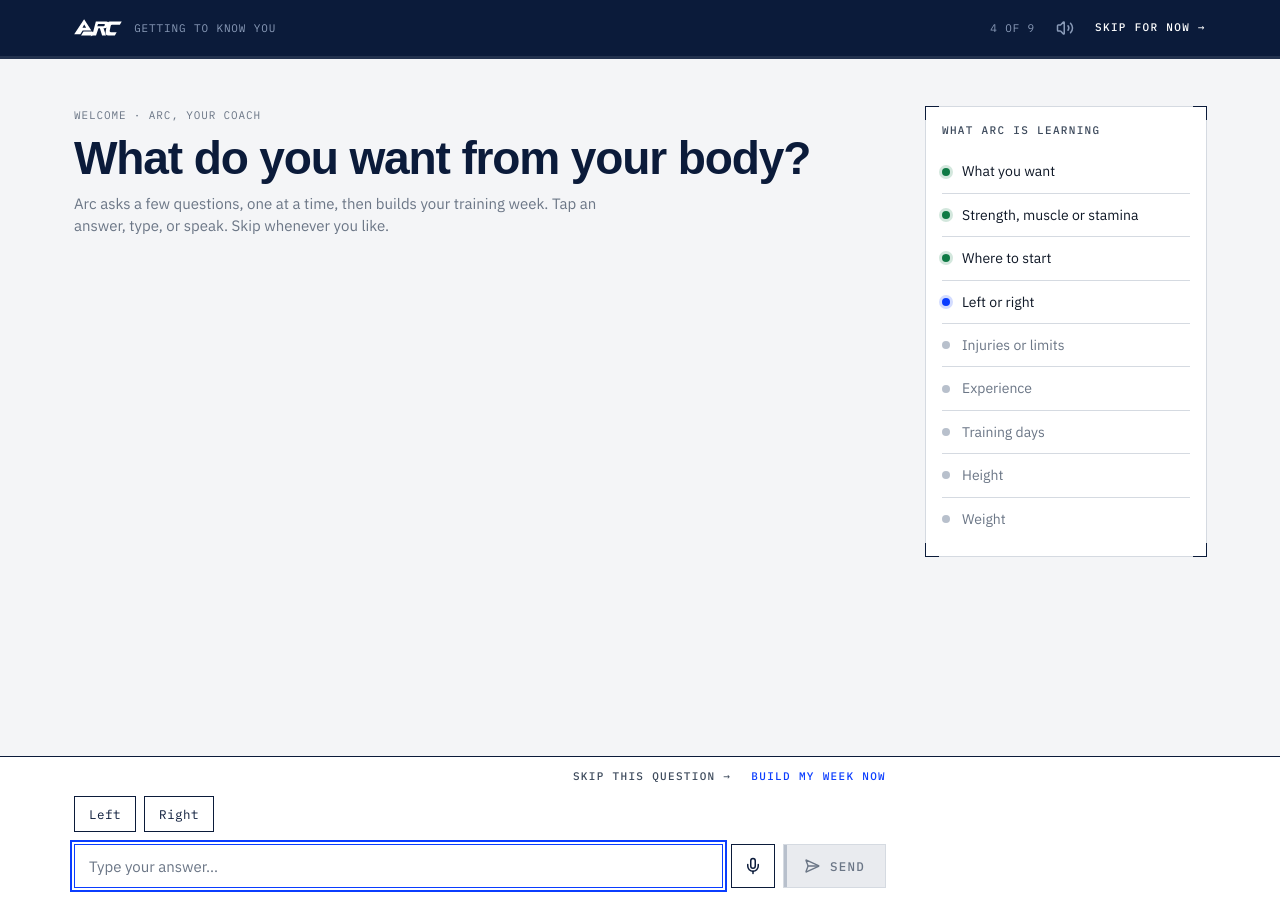
Scenario: WelcomePage › offers quick answers for the question Arc is asking, and a tap sends one
Expected: the text "4 of 9" is shown, [990, 20, 1035, 36]
Click the button "Left": (105, 814) [74, 796, 136, 832]
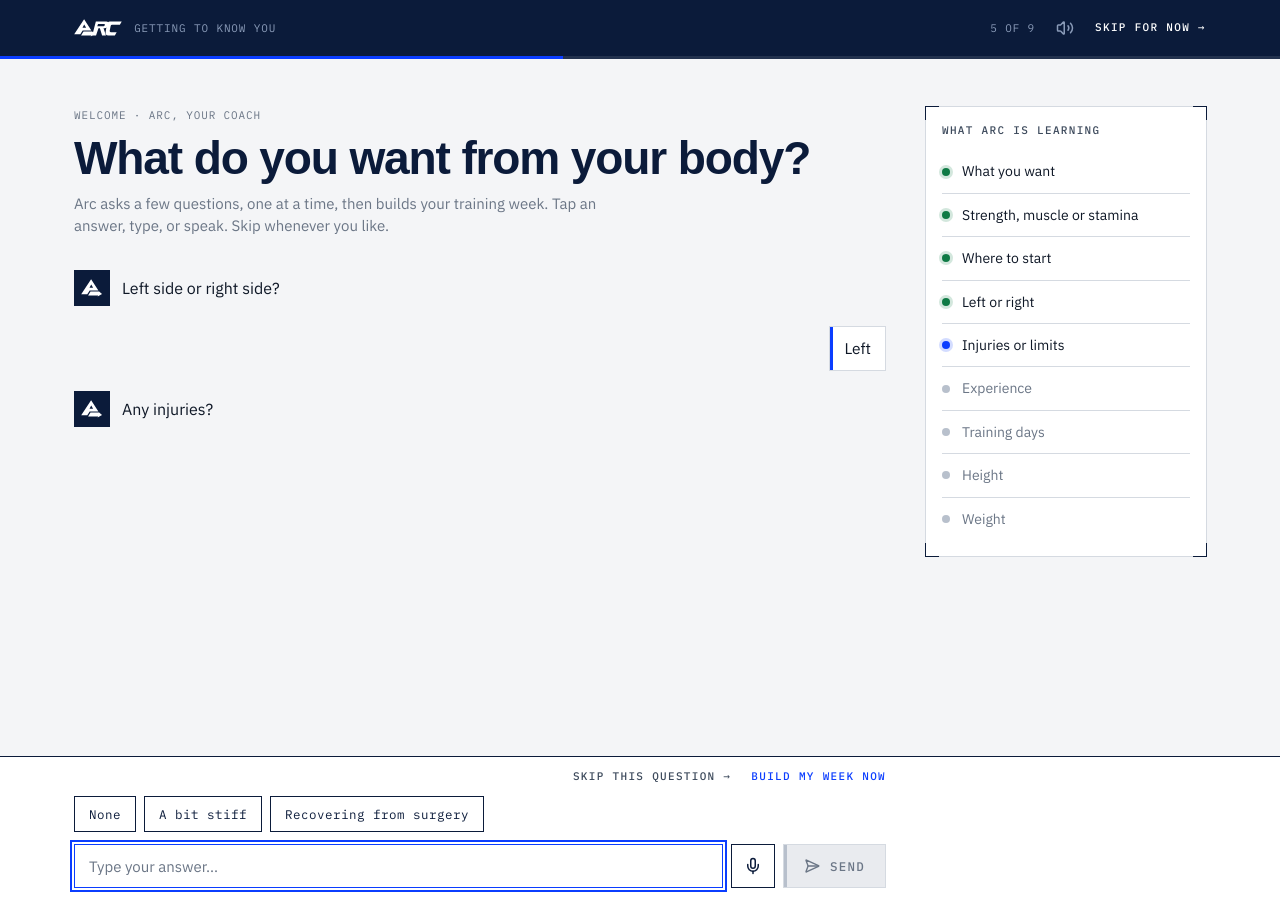
Expected: the text "Any injuries?" is shown, [121, 398, 213, 419]
Expected: the button "None" is shown, [74, 796, 136, 832]
